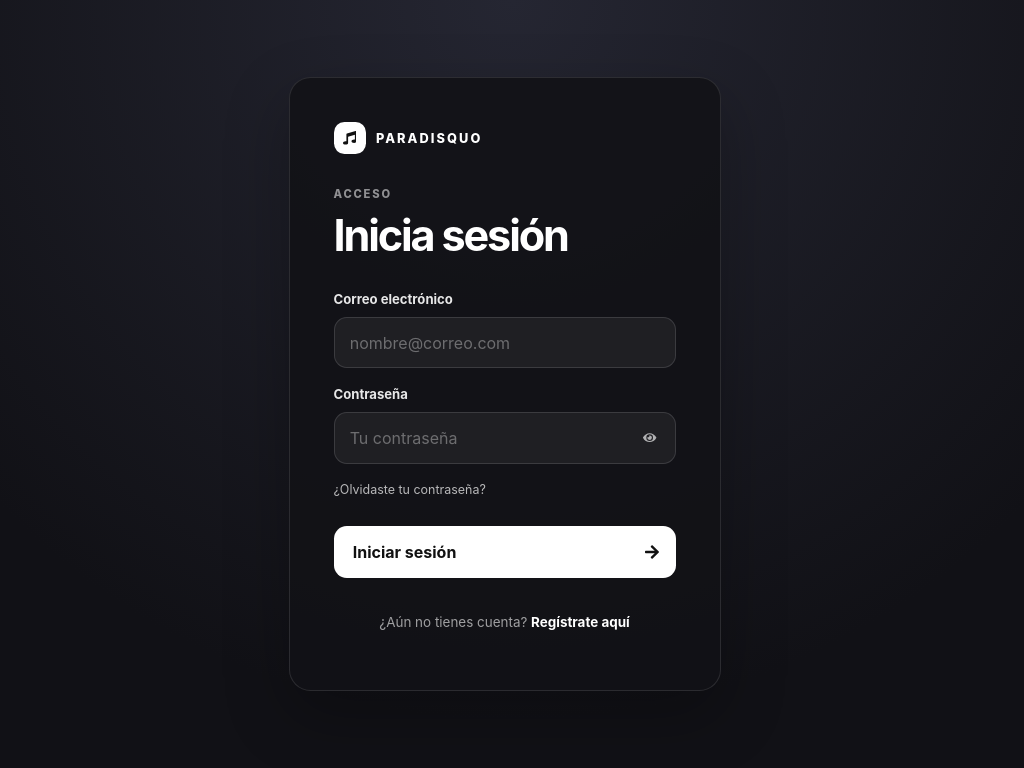
Test case: Fase 1: recorridos esenciales › muestra un error comprensible antes de enviar un correo inválido
The image size is (1024, 768).
Step 1. Type "correo-invalido" into the field labelled "Correo electrónico" → point(504, 343), box left=334, top=317, right=676, bottom=368
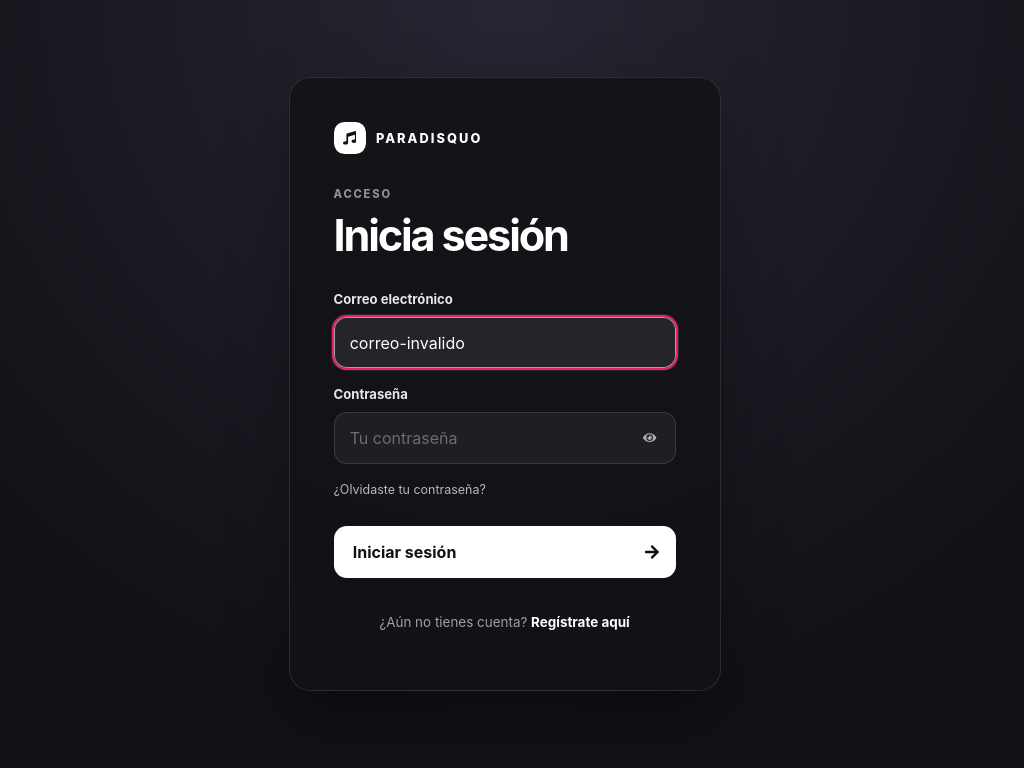
Step 2. Type "secreto123" into the password field labelled "Contraseña" → point(504, 438), box left=334, top=412, right=676, bottom=464
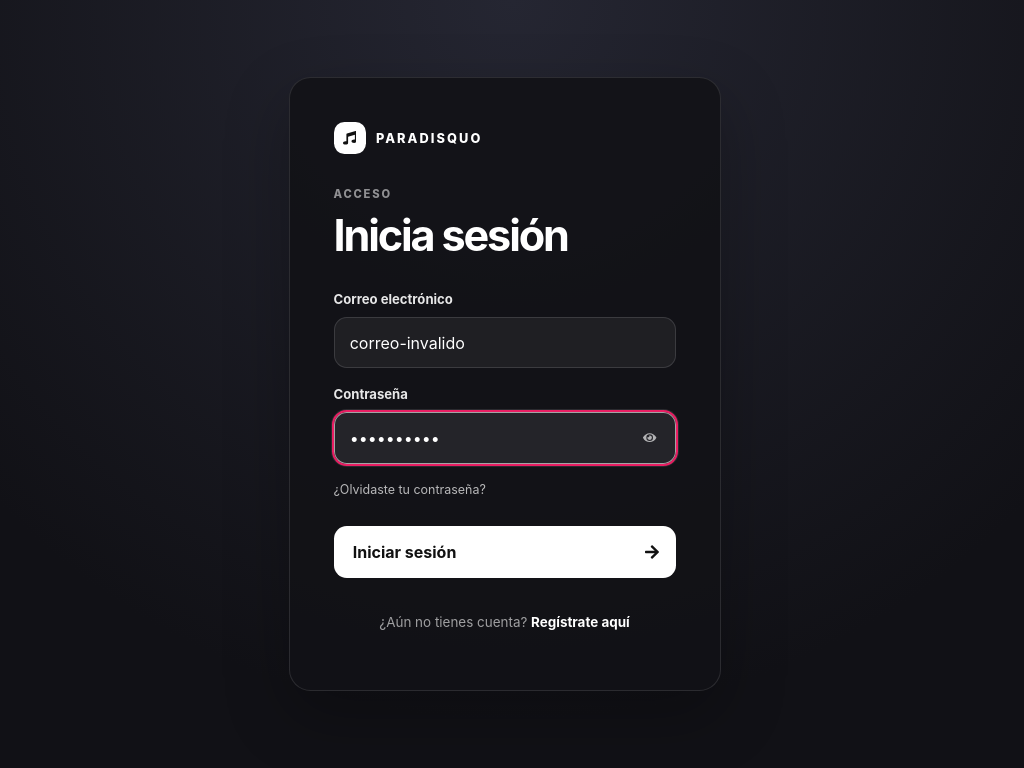
Step 3. Submit the form "Iniciar sesión", box left=334, top=290, right=676, bottom=578
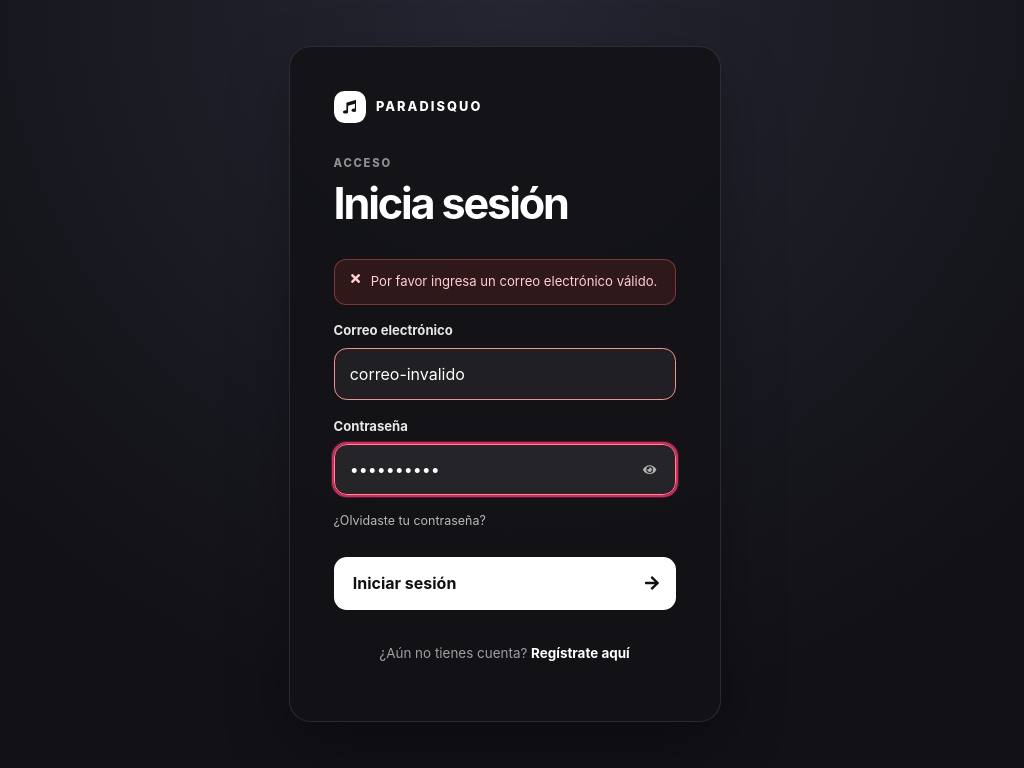
Expected: the message shows "correo electrónico válido", left=371, top=273, right=657, bottom=289
